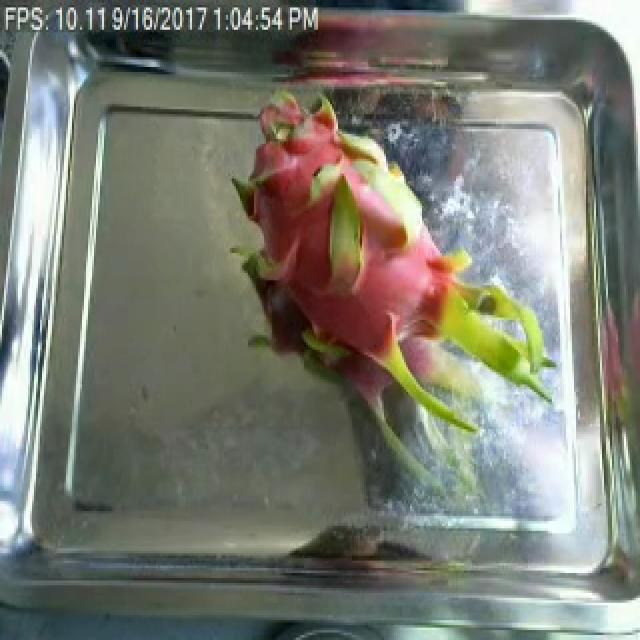fruit: (210, 74, 564, 479)
